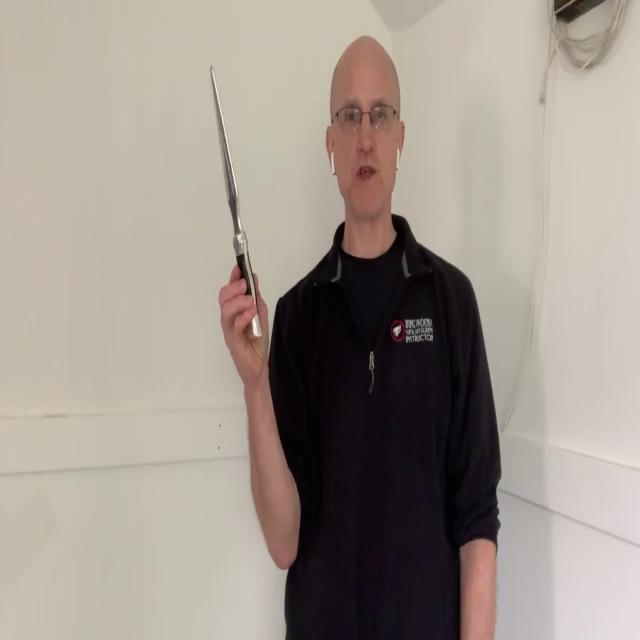Knife_Handle: (208, 63, 270, 384)
